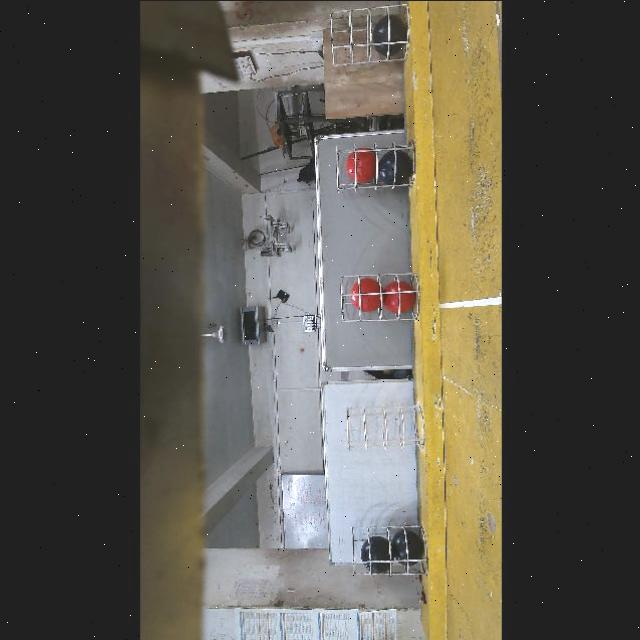P: (373, 12, 409, 53), (379, 149, 415, 183), (362, 535, 395, 572), (392, 529, 424, 565)
R: (352, 277, 385, 311), (346, 147, 377, 183), (383, 279, 416, 312)
S: (348, 520, 434, 580), (330, 1, 404, 69), (334, 134, 416, 186), (348, 404, 422, 458), (341, 276, 425, 322)
